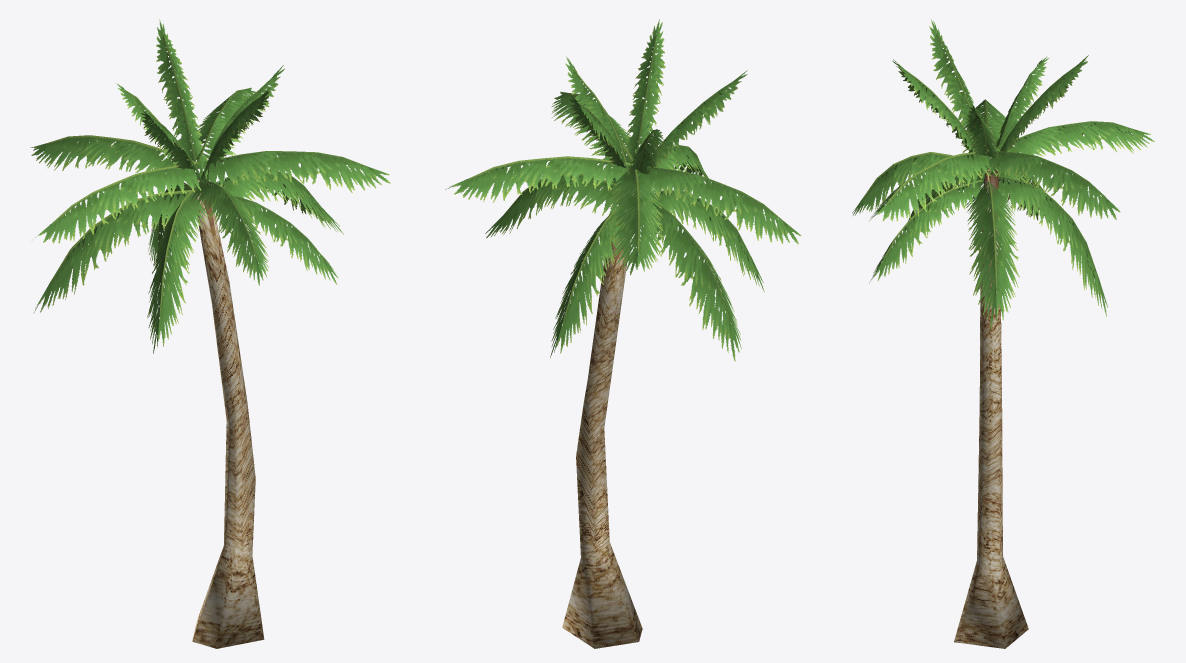
Rendered from Palm1.glb.
3 renders of one model, left to right at view 1: azimuth 30°, elevation 25°; view 2: azimuth 150°, elevation 25°; view 3: azimuth 270°, elevation 25°, orthographic.
Parts seen in each view (by area): view 1: Palm1; view 2: Palm1; view 3: Palm1.
Part boxes in pixels (x1,y1,x2,y2): Palm1: [30, 19, 390, 648]; Palm1: [445, 19, 801, 648]; Palm1: [852, 19, 1154, 648].
Size of the model in its own units: 6.3 by 10.78 by 5.51.
1 material, 1 textured.
